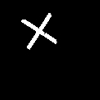single_crochet: (21, 13, 55, 48)
